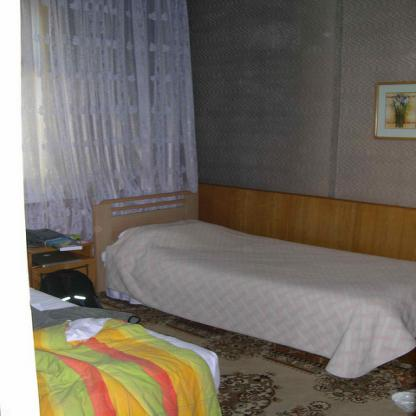backpack: (40, 269, 104, 309)
